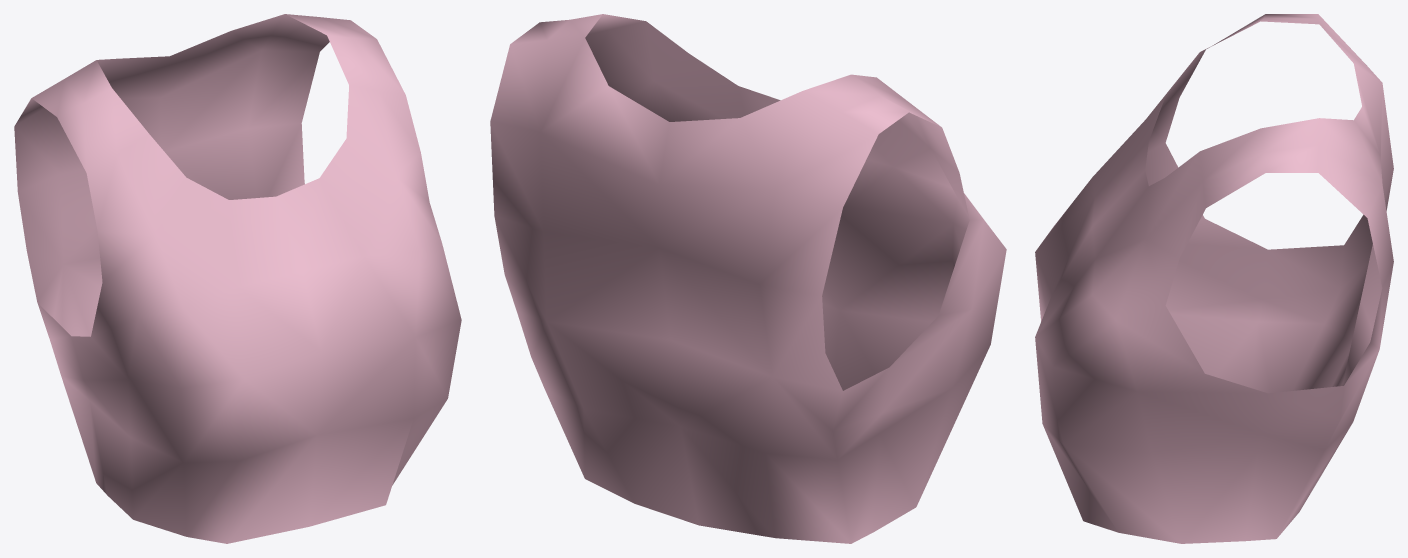
Rendered from 4_Blouse_1.glb.
The picture shows the model from 3 angles, left to right: view 1: azimuth 30°, elevation 25°; view 2: azimuth 150°, elevation 25°; view 3: azimuth 270°, elevation 25°; orthographic projection. The views are drawn at different scales.
Visible parts, largest first — view 1: BLOUSE_1_butterfly_hoodie_Cube.001_Cube.001; view 2: BLOUSE_1_butterfly_hoodie_Cube.001_Cube.001; view 3: BLOUSE_1_butterfly_hoodie_Cube.001_Cube.001.
Part boxes in pixels (x1=…): BLOUSE_1_butterfly_hoodie_Cube.001_Cube.001: x1=14, y1=14, x2=461, y2=543; BLOUSE_1_butterfly_hoodie_Cube.001_Cube.001: x1=490, y1=14, x2=1006, y2=543; BLOUSE_1_butterfly_hoodie_Cube.001_Cube.001: x1=1035, y1=14, x2=1393, y2=543.
Size of the model in its own units: 0.2794 by 0.3288 by 0.2604.
